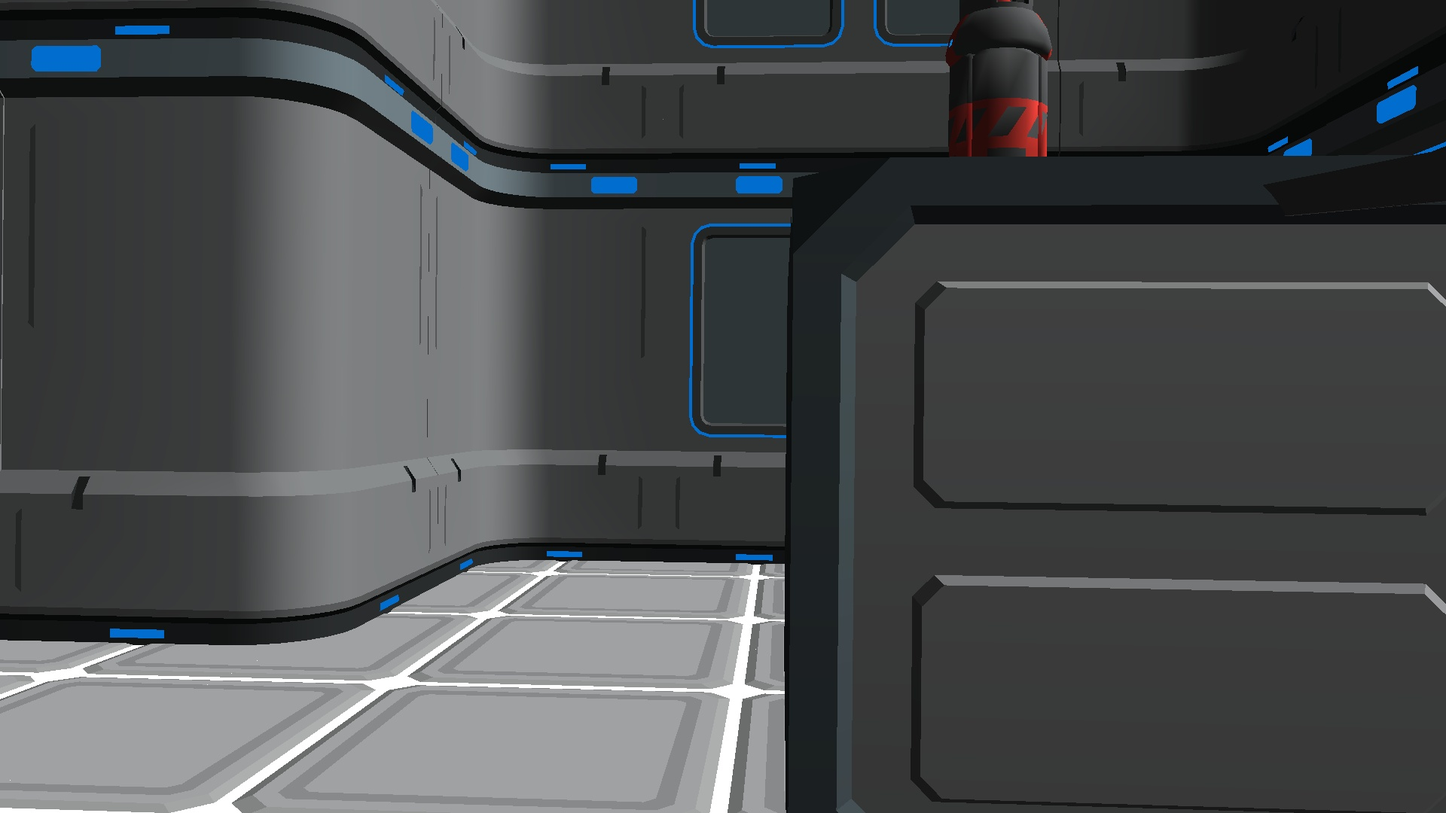red barrel: (945, 0, 1053, 157)
